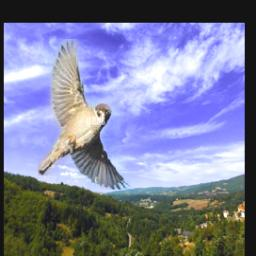Sparrow: (38, 40, 132, 191)
